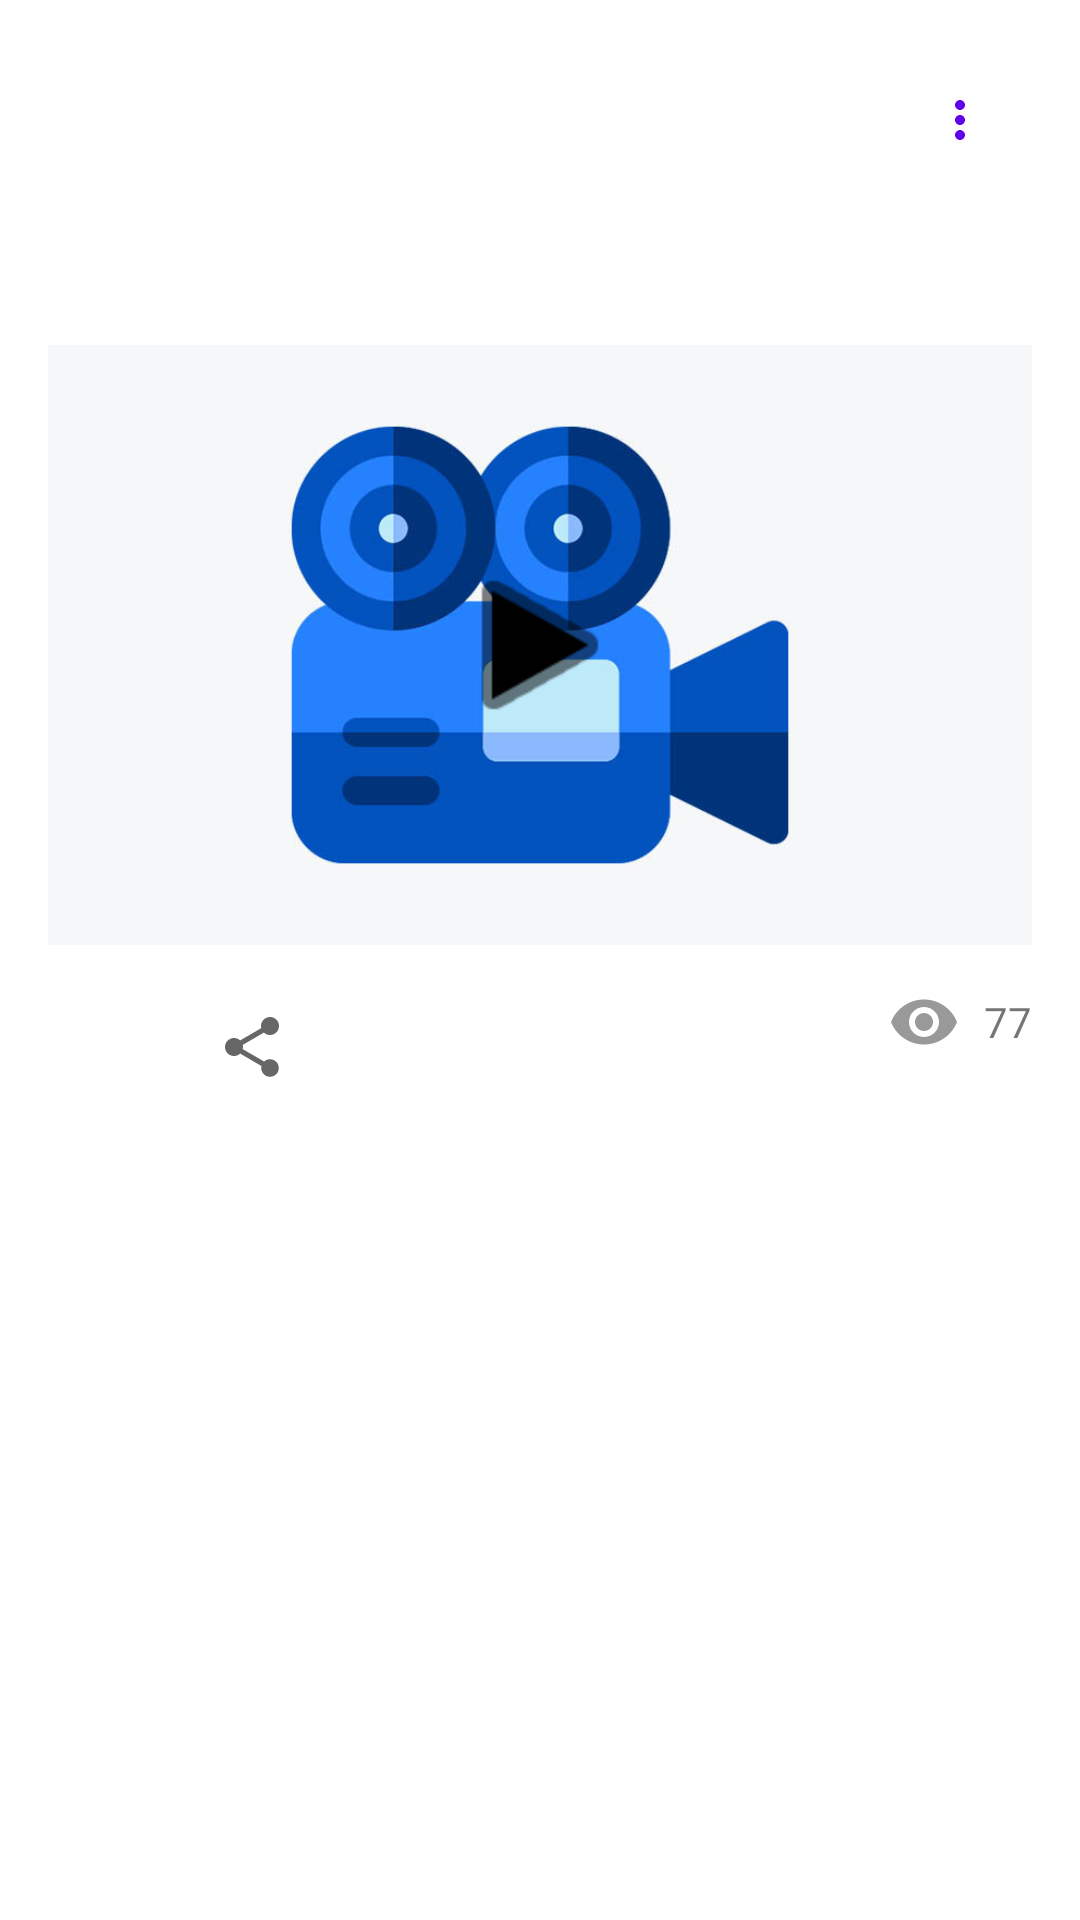

Where to tap for icons on this 1080 x 1920 app screen, as [x,y]:
play: [540,645]
Post menu: [960,120]
Shares: [252,1047]
Views: [924,1022]
